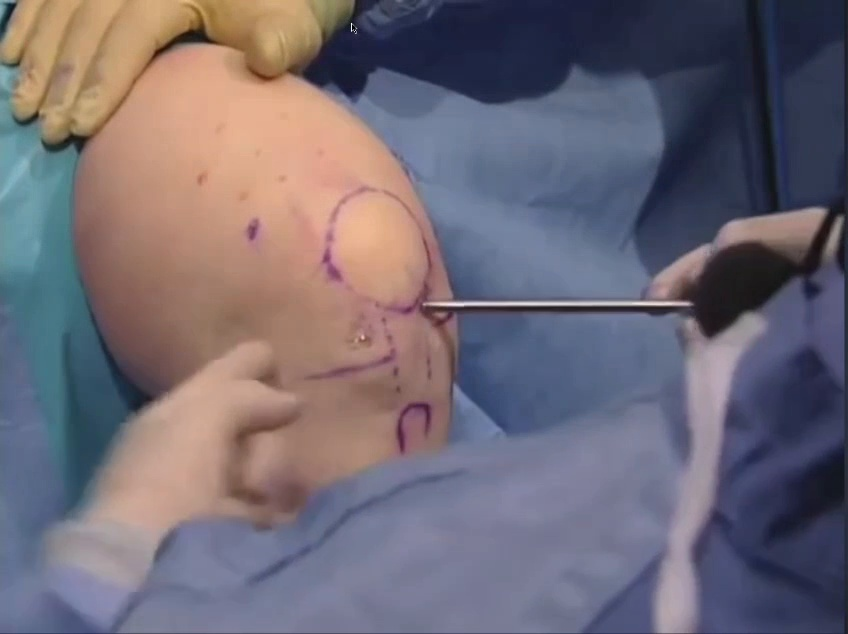arthroscope: (96, 290, 402, 508)
probe: (309, 182, 367, 314)
